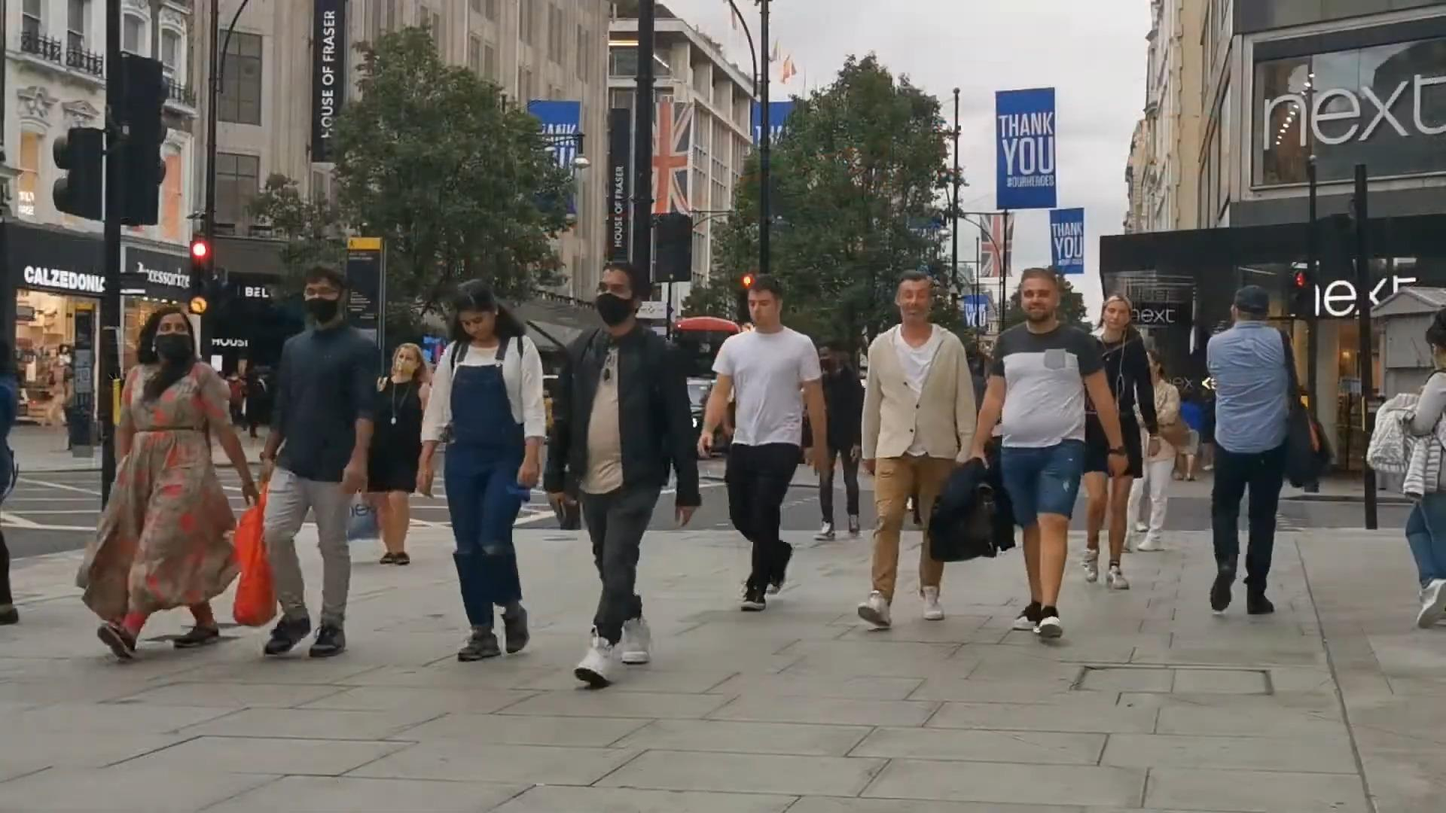no-helmet: (451, 279, 514, 341), (596, 260, 650, 330), (137, 307, 195, 364), (303, 262, 347, 326), (1021, 267, 1061, 325), (896, 270, 933, 327), (748, 275, 783, 329), (1231, 284, 1270, 322), (391, 342, 425, 379), (1426, 307, 1446, 369), (1102, 294, 1132, 333)
